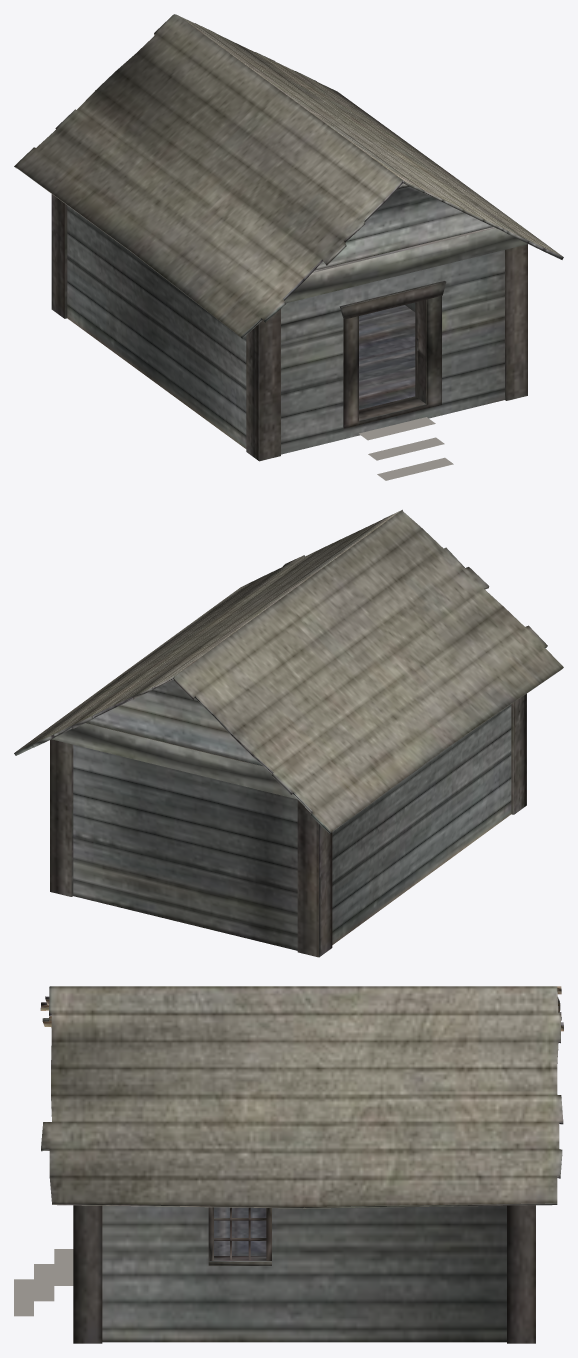
Rendered from old-hut.access-v8.lod1.glb.
The picture shows the model from 3 angles, top to bottom: view 1: azimuth 30°, elevation 25°; view 2: azimuth 150°, elevation 25°; view 3: azimuth 270°, elevation 25°; orthographic projection. The views are drawn at different scales.
Parts seen in each view (by area): view 1: hut_T_hUT_0, Walkable floors and stairs; view 2: hut_T_hUT_0; view 3: hut_T_hUT_0, Walkable floors and stairs.
Part boxes in pixels (x1,y1,x2,y2): hut_T_hUT_0: [14, 14, 563, 461]; Walkable floors and stairs: [359, 417, 453, 480]; hut_T_hUT_0: [14, 509, 563, 957]; hut_T_hUT_0: [40, 986, 563, 1343]; Walkable floors and stairs: [14, 1249, 73, 1316].
Bounding box in the file's own units: 6.25 × 5.13 × 8.2.
3 materials, 1 textured.
